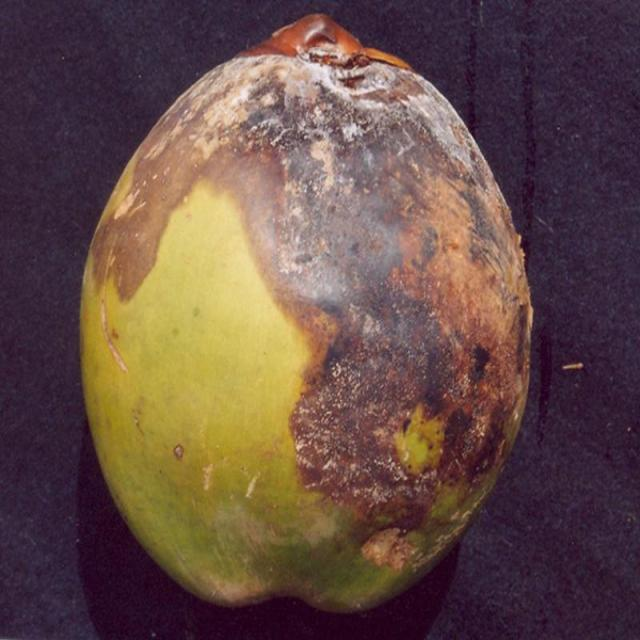damaged: (80, 15, 532, 610)
